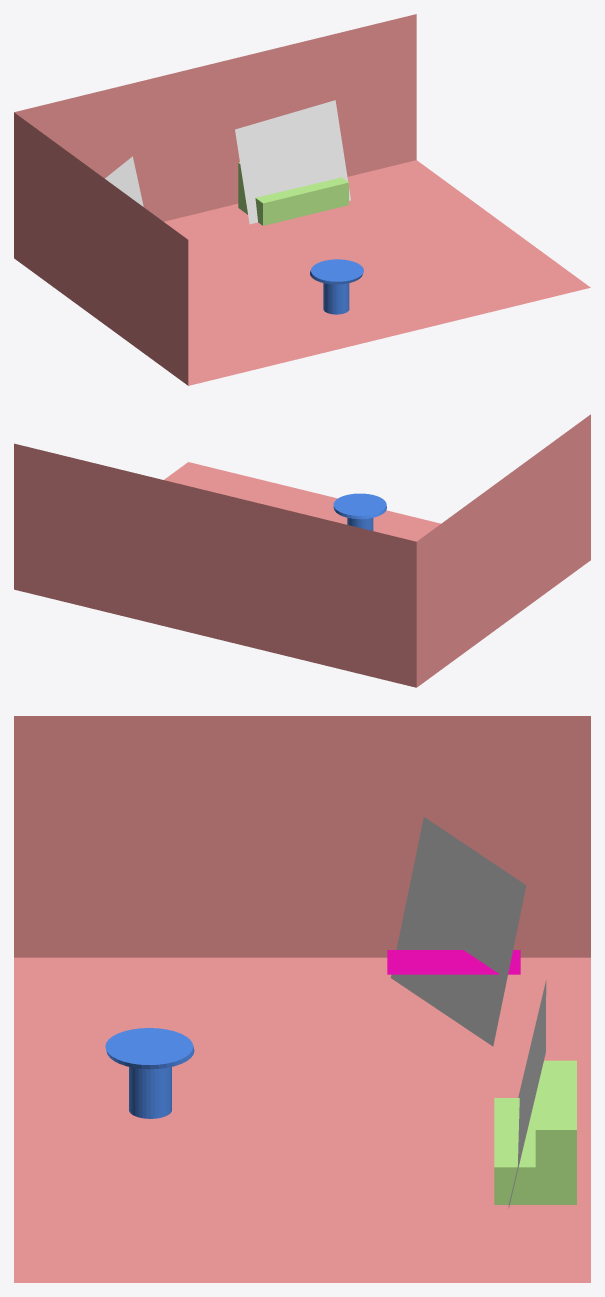
The model's file is Room.glb.
The picture shows the model from 3 angles, top to bottom: view 1: azimuth 30°, elevation 25°; view 2: azimuth 150°, elevation 25°; view 3: azimuth 270°, elevation 25°; orthographic projection. The views are drawn at different scales.
Parts seen in each view (by area): view 1: Plane, Video2, Cube.001, Circle, Video1; view 2: Plane, Circle; view 3: Plane, Video1, Cube.001, Circle, Cube, Video2.
Part boxes in pixels (bbox=[...]): Plane: bbox=[14, 14, 590, 385]; Video2: bbox=[235, 100, 350, 224]; Cube.001: bbox=[238, 162, 348, 225]; Circle: bbox=[310, 259, 363, 314]; Video1: bbox=[105, 156, 143, 206]; Plane: bbox=[14, 414, 590, 687]; Circle: bbox=[333, 493, 386, 530]; Plane: bbox=[14, 716, 590, 1282]; Video1: bbox=[390, 817, 526, 1046]; Cube.001: bbox=[494, 1060, 576, 1204]; Circle: bbox=[105, 1028, 194, 1118]; Cube: bbox=[387, 950, 520, 974]; Video2: bbox=[508, 980, 546, 1208].
Bounding box in the file's own units: 8 × 3.05 × 6.
